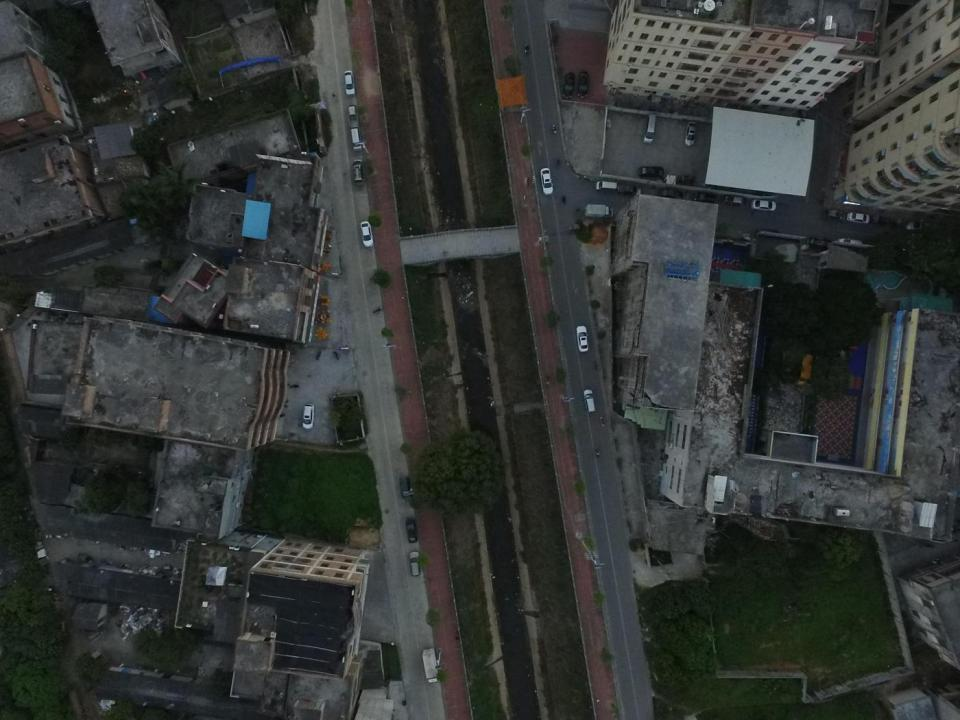car: (904, 221, 932, 235), (399, 476, 413, 503), (541, 167, 554, 196), (846, 210, 871, 225), (360, 221, 374, 247), (301, 403, 315, 429), (408, 549, 421, 576), (405, 517, 418, 544), (576, 70, 588, 99), (576, 324, 588, 352), (659, 186, 683, 200), (352, 159, 364, 186), (562, 72, 574, 99), (618, 182, 642, 195), (693, 189, 717, 202), (344, 71, 356, 96), (684, 121, 696, 146), (751, 199, 776, 210), (638, 166, 664, 176), (724, 194, 745, 205)
truck: (422, 647, 439, 684), (584, 204, 614, 218), (347, 104, 360, 128)
van: (582, 388, 597, 414), (643, 114, 656, 144), (350, 128, 362, 152), (594, 180, 618, 191)
